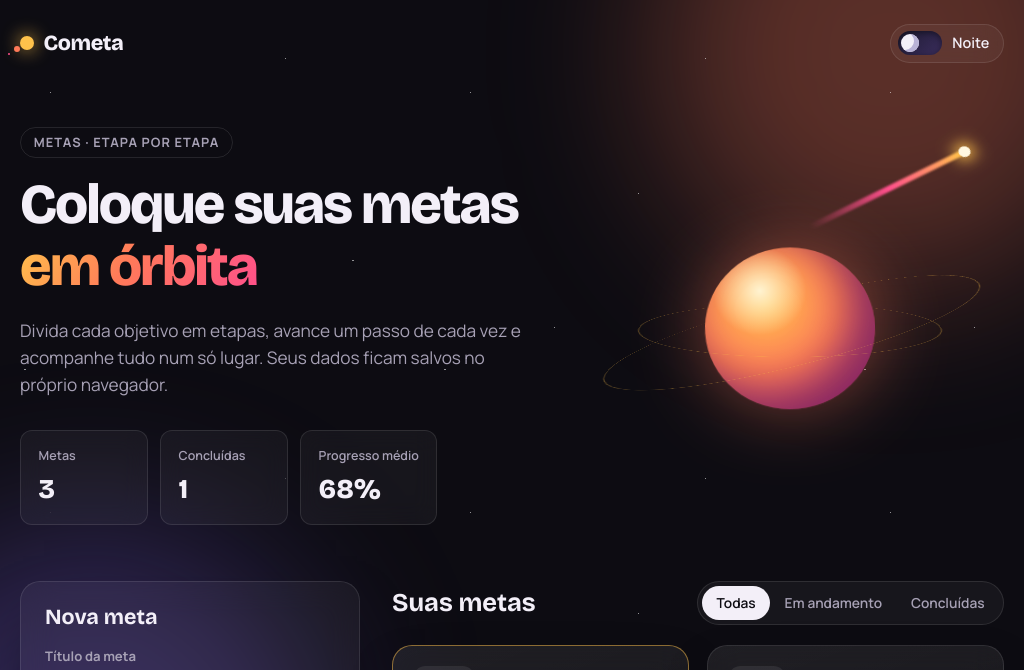
Test: App Cometa › filtra metas concluídas e em andamento
Later steps or results of the test are not shown.
Click the button "Concluídas".
click(948, 603)  # box [896, 586, 999, 620]
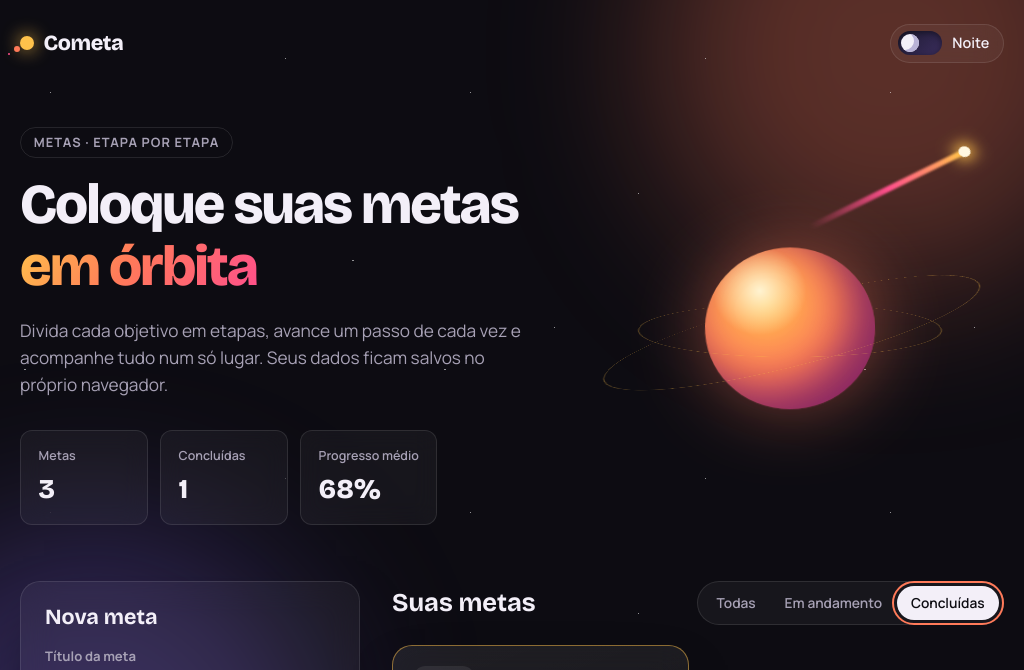
Result: the button "Concluídas" is pressed at [896, 586, 999, 620]
